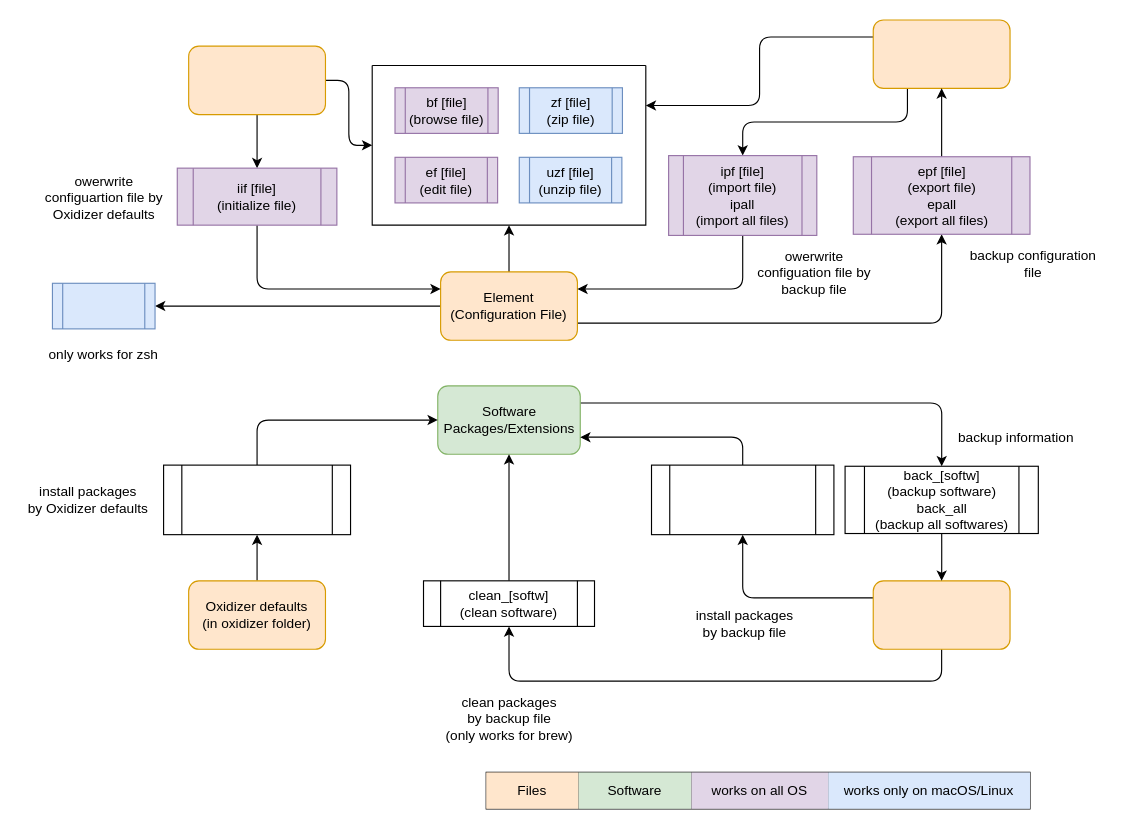
This 1122x829 diagram has some shape labels left out. The shapes that lost their labels are listed below. From the top down, each one's centre as x and y in pixels, then its label:
point (941, 53): Oxide (Backup file)
point (256, 80): Oxigen (Oxidizer file)
point (103, 305): ff (refresh file)
point (256, 499): init_[softw] (initialize software) init_all (initialize all softwares)
point (742, 499): up_[softw] (update software) up_all (update all softwares)
point (941, 614): Backup file
